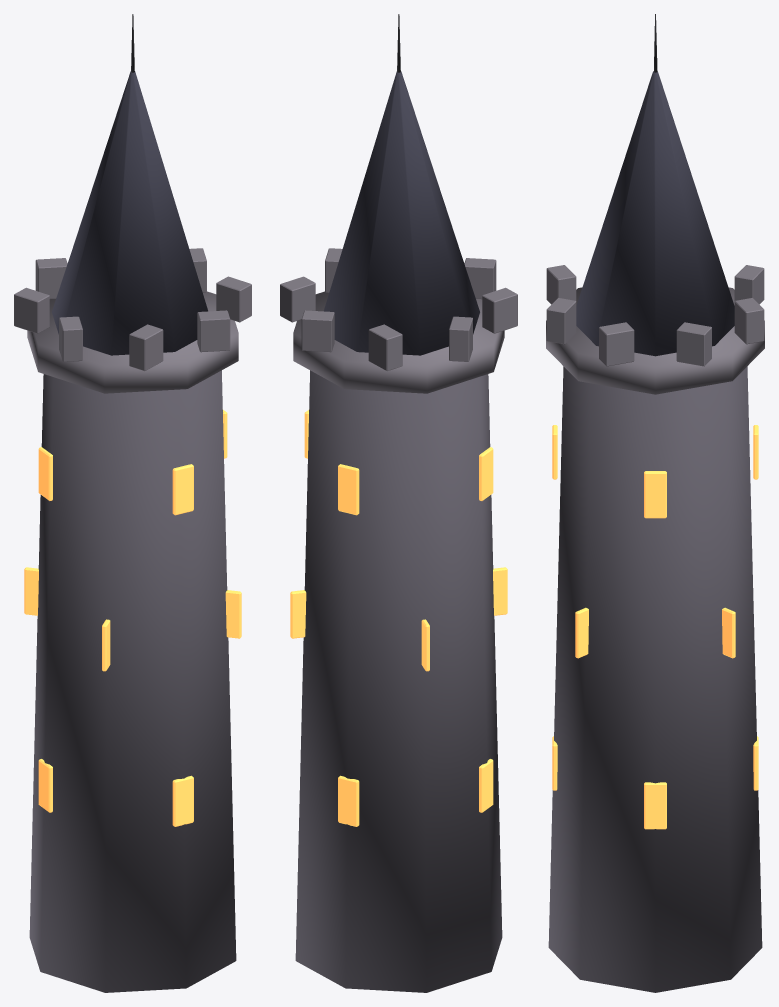
The model's file is gothic2.glb.
The picture shows the model from 3 angles, left to right: view 1: azimuth 30°, elevation 25°; view 2: azimuth 150°, elevation 25°; view 3: azimuth 270°, elevation 25°; orthographic projection.
Parts seen in each view (by area): view 1: G2_Spire; view 2: G2_Spire; view 3: G2_Spire.
Boxes of the visible parts, x1,y1,x2,y2 form: G2_Spire: [14, 14, 251, 992]; G2_Spire: [280, 14, 517, 992]; G2_Spire: [546, 14, 764, 992].
Size of the model in its own units: 8.6 by 40.5 by 8.6.
